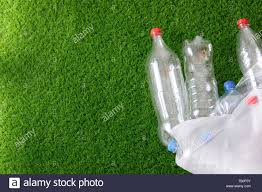plastic_bottle: (144, 26, 191, 152), (181, 35, 219, 130), (228, 18, 262, 103)
